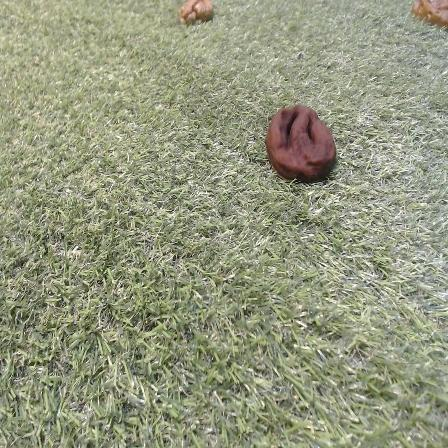dog-poop: (264, 100, 351, 194), (402, 0, 448, 29), (179, 0, 215, 29)
